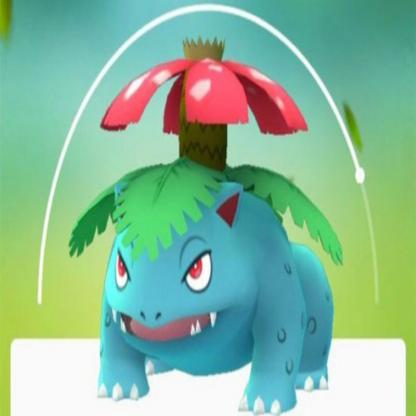Venusaur: (70, 26, 334, 416)
